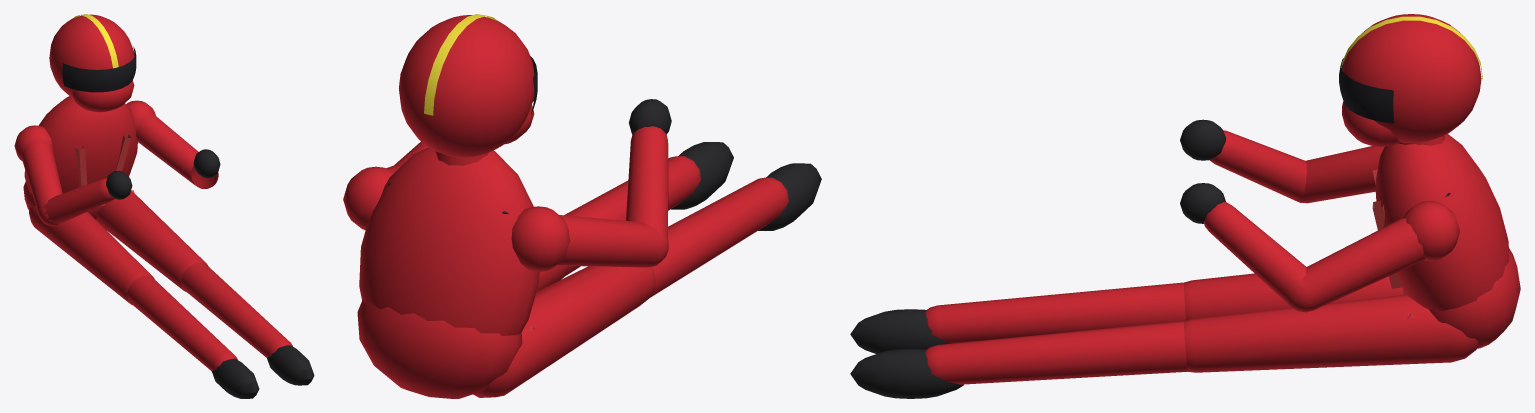
The model's file is fugazzi_994p_driver.glb.
The picture shows the model from 3 angles, left to right: view 1: azimuth 30°, elevation 25°; view 2: azimuth 150°, elevation 25°; view 3: azimuth 270°, elevation 25°; orthographic projection. The views are drawn at different scales.
Parts seen in each view (by area): view 1: fugazzi_994p_driver; view 2: fugazzi_994p_driver; view 3: fugazzi_994p_driver.
Part boxes in pixels (x1,y1,x2,y2): fugazzi_994p_driver: (14, 14, 314, 398); fugazzi_994p_driver: (343, 14, 821, 398); fugazzi_994p_driver: (850, 14, 1520, 398).
Size of the model in its own units: 0.6419 by 0.847 by 1.43.
